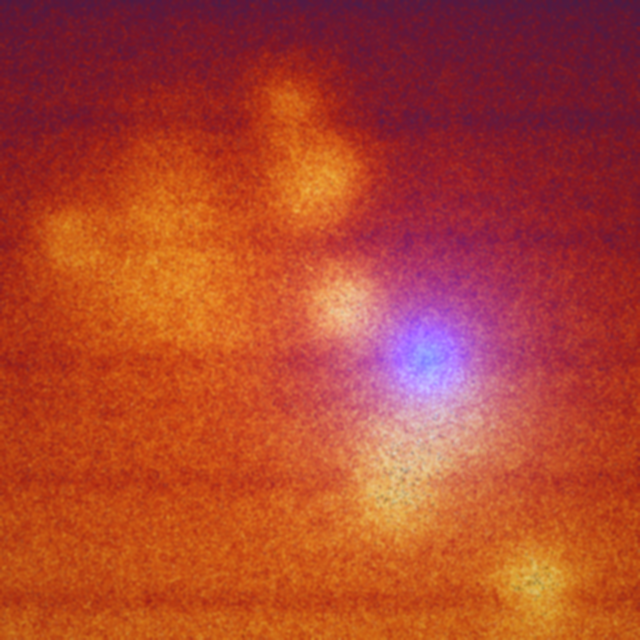nozzle: (385, 319, 461, 391)
